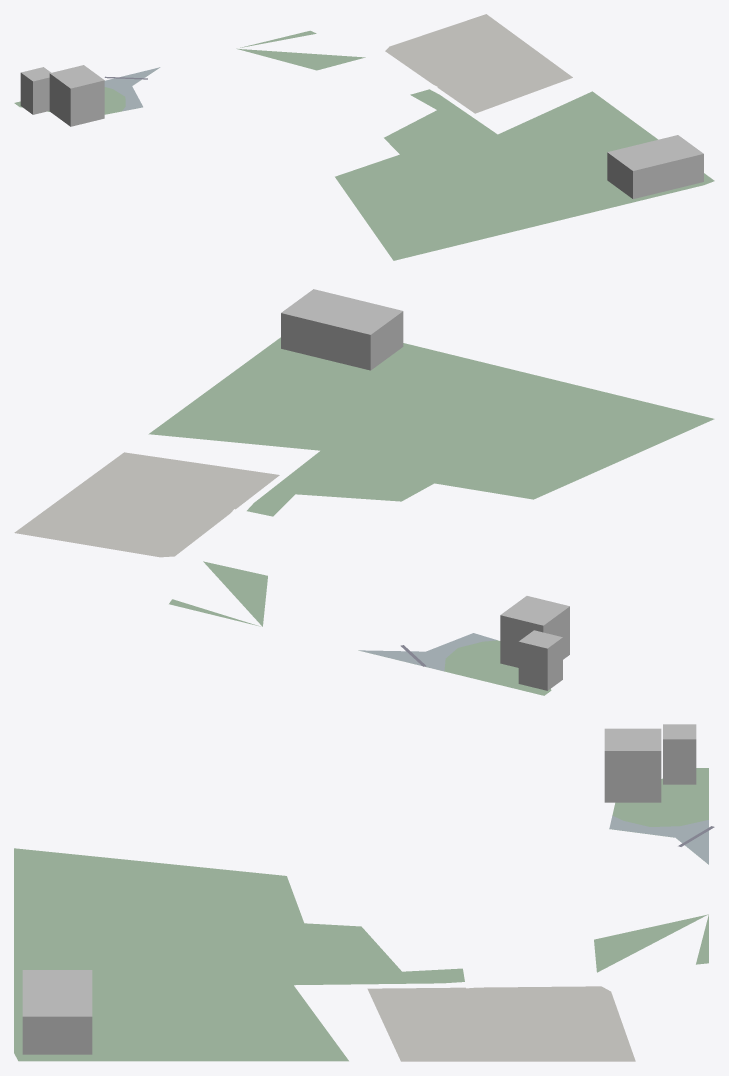
Rendered from 95_114_mid.glb.
3 views of the same model, one above another, from view 1: azimuth 30°, elevation 25°; view 2: azimuth 150°, elevation 25°; view 3: azimuth 270°, elevation 25° (orthographic). The views are drawn at different scales.
Size of the model in its own units: 500 by 41 by 504.
